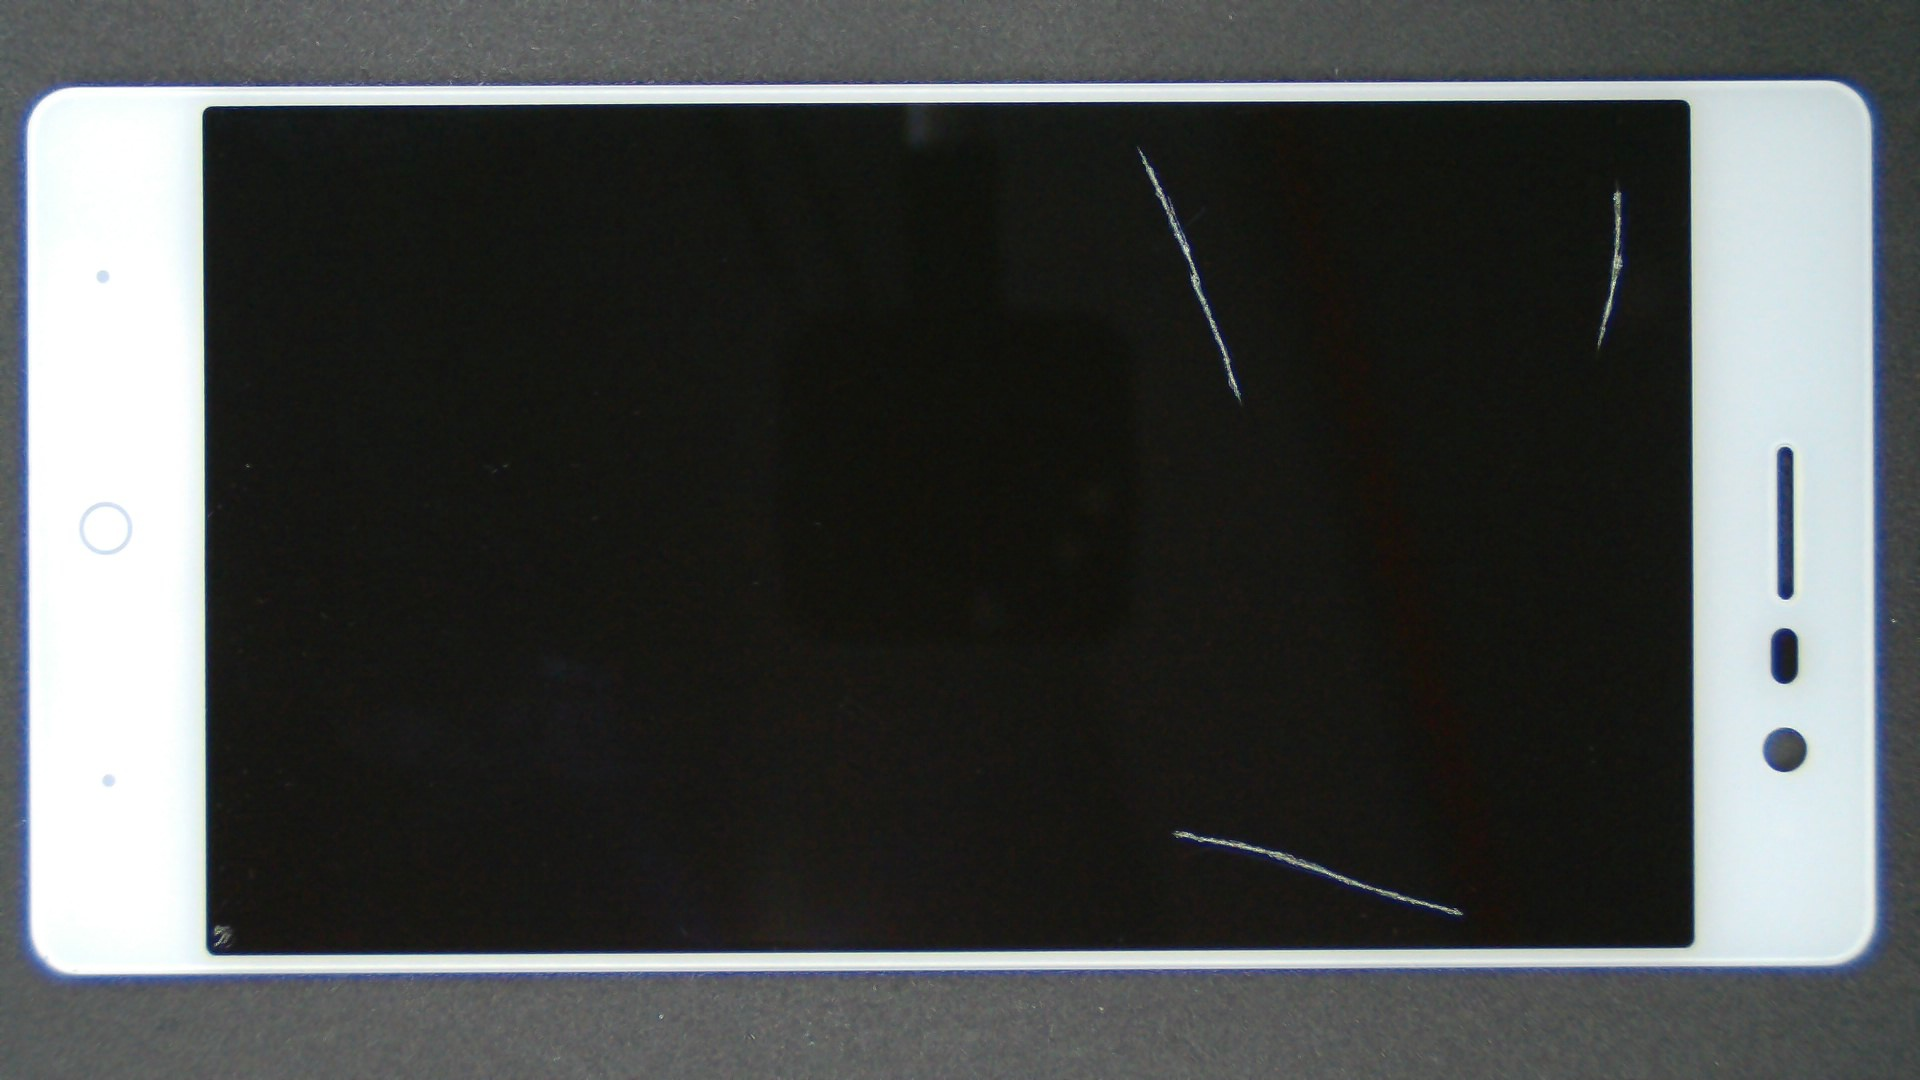oil: (588, 414, 1763, 1080), (808, 94, 1920, 285), (568, 73, 1704, 219), (109, 462, 323, 1080)
